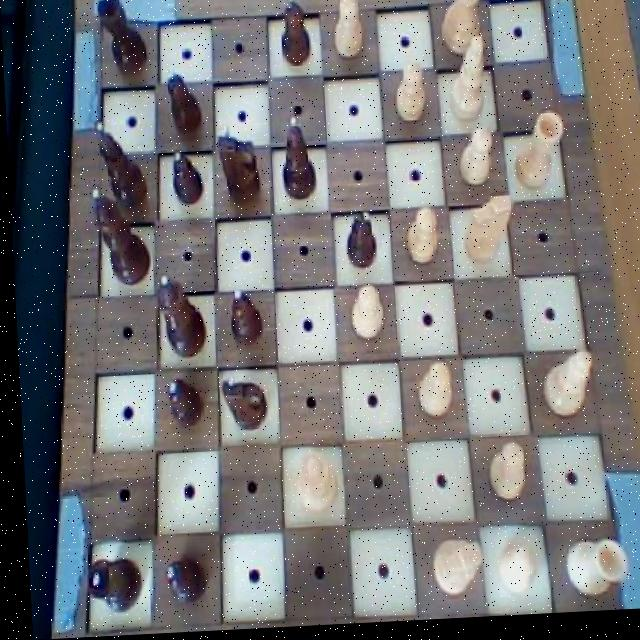bishop: (91, 116, 152, 215), (275, 114, 320, 210)
black-bishop: (86, 184, 150, 288)
black-king: (215, 122, 261, 209), (215, 371, 266, 440)
black-knight: (163, 64, 206, 138), (157, 549, 205, 610), (277, 0, 316, 75), (166, 147, 206, 210), (163, 371, 203, 433), (223, 287, 261, 351), (342, 211, 377, 277)
black-pawn: (150, 269, 206, 362)
black-queen: (92, 0, 151, 81), (77, 551, 139, 621)
black-rook: (441, 34, 492, 130), (534, 350, 594, 428)
white-bishop: (437, 0, 489, 65)
white-king: (455, 196, 515, 274), (424, 537, 479, 604)
white-knight: (488, 541, 535, 604), (481, 441, 525, 508), (410, 361, 455, 426), (400, 207, 441, 273), (344, 286, 388, 347), (452, 129, 495, 191), (391, 63, 429, 132), (330, 0, 369, 64)
white-pawn: (284, 449, 335, 522)
white-queen: (509, 113, 568, 196), (558, 537, 626, 608)
